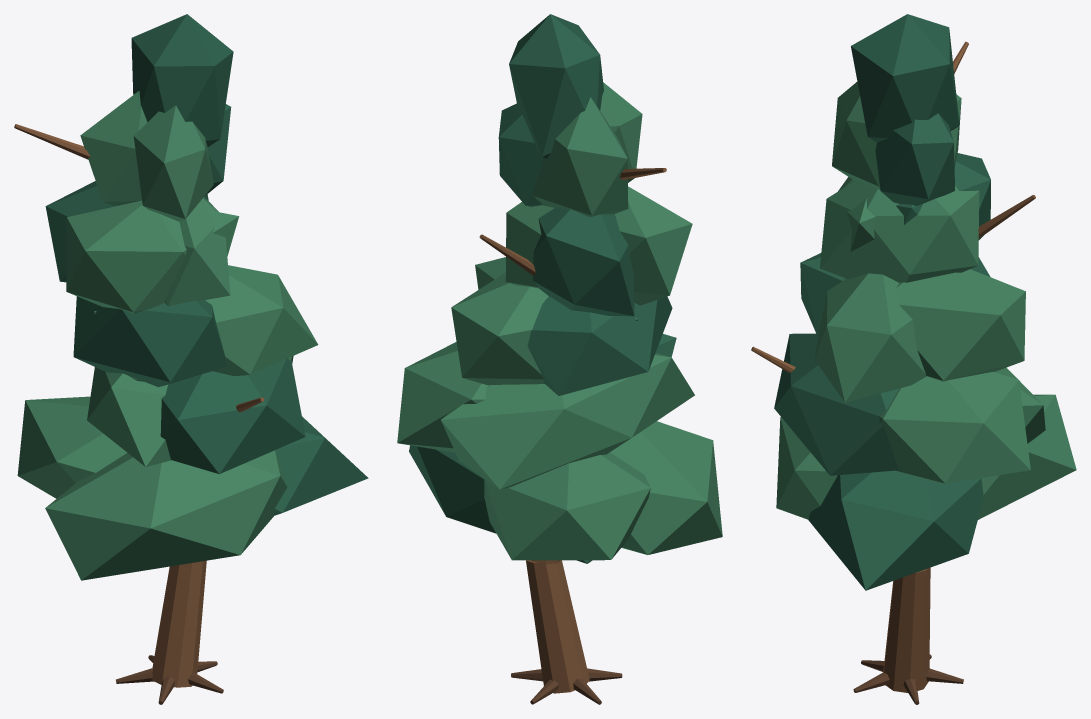
Rendered from mesh_conifer_hero_b.glb.
The picture shows the model from 3 angles, left to right: view 1: azimuth 30°, elevation 25°; view 2: azimuth 150°, elevation 25°; view 3: azimuth 270°, elevation 25°; orthographic projection.
Visible parts, largest first — view 1: mesh_conifer_hero_b__pine_mid, mesh_conifer_hero_b__pine_dark, mesh_conifer_hero_b__bark_mid, mesh_conifer_hero_b__bark_dark; view 2: mesh_conifer_hero_b__pine_mid, mesh_conifer_hero_b__pine_dark, mesh_conifer_hero_b__bark_mid, mesh_conifer_hero_b__bark_dark; view 3: mesh_conifer_hero_b__pine_mid, mesh_conifer_hero_b__pine_dark, mesh_conifer_hero_b__bark_mid, mesh_conifer_hero_b__bark_dark.
Boxes of the visible parts, x1,y1,x2,y2 form: mesh_conifer_hero_b__pine_mid: [17, 91, 318, 580]; mesh_conifer_hero_b__pine_dark: [45, 14, 368, 515]; mesh_conifer_hero_b__bark_mid: [14, 124, 264, 687]; mesh_conifer_hero_b__bark_dark: [116, 655, 223, 704]; mesh_conifer_hero_b__pine_mid: [397, 82, 722, 560]; mesh_conifer_hero_b__pine_dark: [409, 14, 676, 563]; mesh_conifer_hero_b__bark_mid: [479, 168, 666, 693]; mesh_conifer_hero_b__bark_dark: [511, 668, 622, 704]; mesh_conifer_hero_b__pine_mid: [776, 82, 1076, 519]; mesh_conifer_hero_b__pine_dark: [774, 14, 990, 590]; mesh_conifer_hero_b__bark_mid: [751, 41, 1035, 692]; mesh_conifer_hero_b__bark_dark: [853, 654, 963, 704].
Size of the model in its own units: 11.05 by 22.68 by 9.88.
